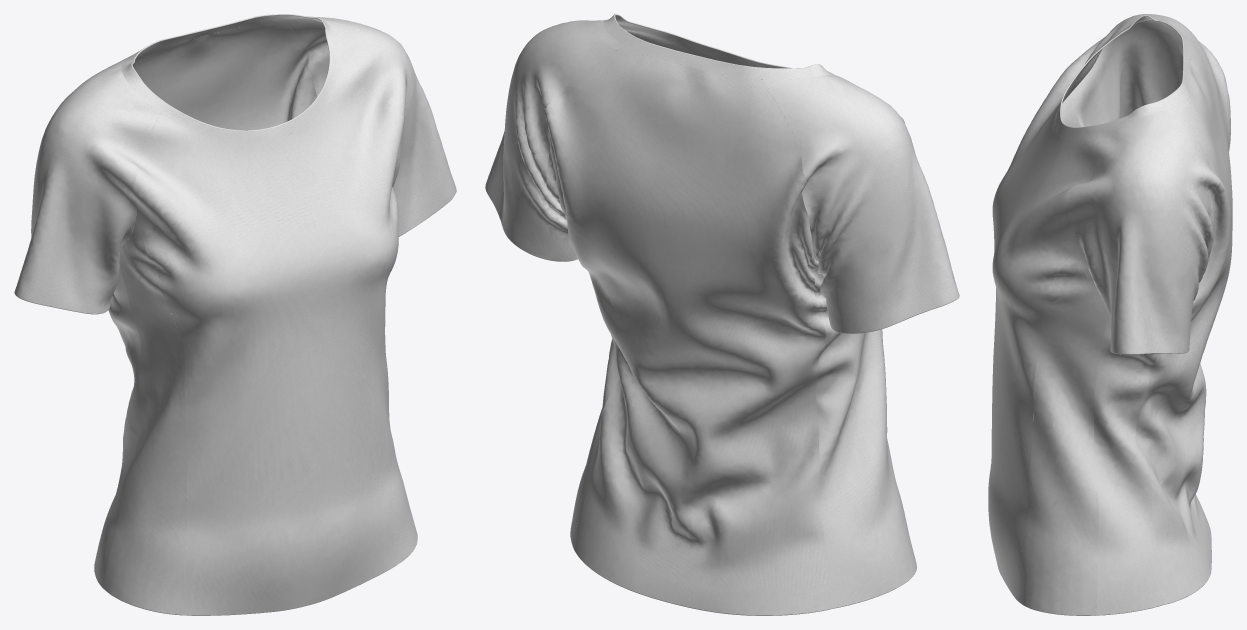
3 renders of one model, left to right at view 1: azimuth 30°, elevation 25°; view 2: azimuth 150°, elevation 25°; view 3: azimuth 270°, elevation 25°, orthographic. The views are drawn at different scales.
Visible parts, largest first — view 1: 3, 4, 2; view 2: 2, 4; view 3: 4, 3, 2.
Part boxes in pixels (left/top/right/bottom): 3: left=133, top=68, right=404, bottom=615; 4: left=14, top=14, right=456, bottom=615; 2: left=117, top=20, right=317, bottom=500; 2: left=544, top=46, right=832, bottom=615; 4: left=485, top=14, right=959, bottom=608; 4: left=1018, top=14, right=1221, bottom=615; 3: left=988, top=50, right=1099, bottom=601; 2: left=1136, top=37, right=1232, bottom=604.
Size of the model in its own units: 48.24 by 53.74 by 23.78.
Materials: 3 (3 with a texture image).
